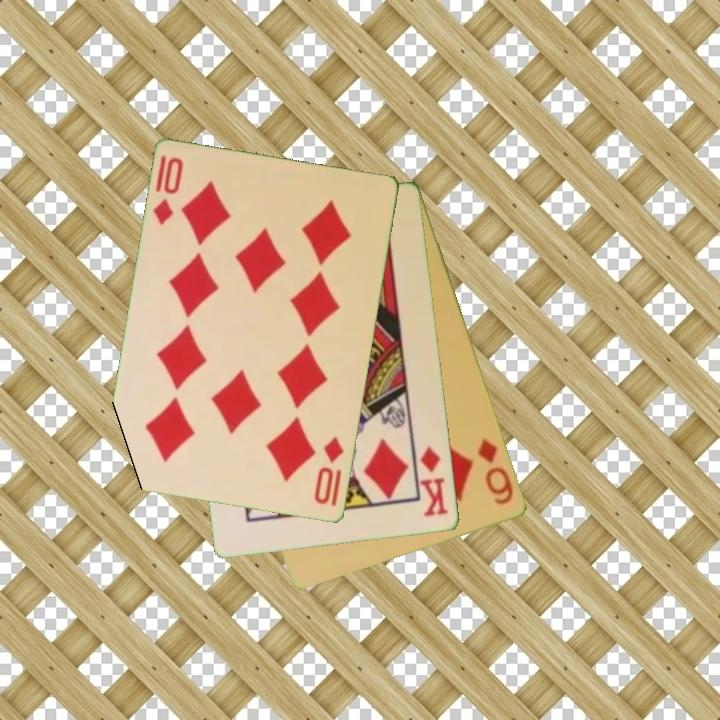10d: (150, 154, 186, 229), (311, 434, 347, 508)
6d: (474, 434, 517, 508)
Kd: (417, 443, 451, 520)
